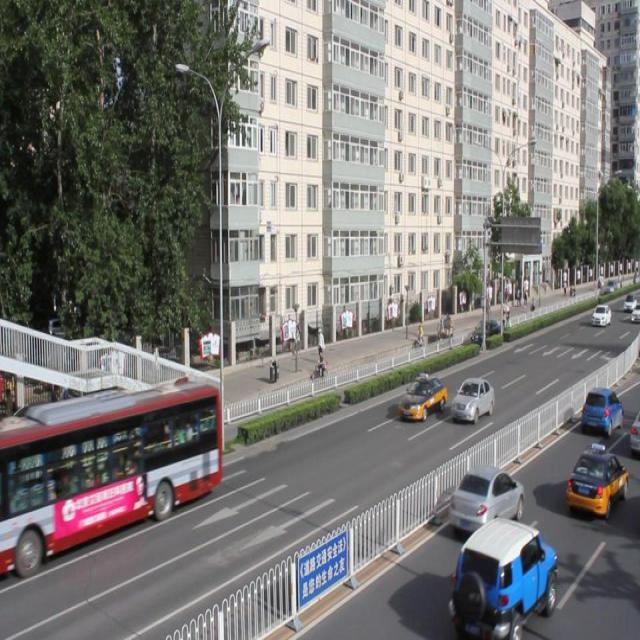car: (450, 516, 554, 640), (449, 463, 522, 536), (564, 444, 626, 516), (398, 375, 445, 424), (578, 386, 622, 434), (451, 376, 494, 422), (469, 319, 500, 346)
van: (1, 383, 220, 570)
